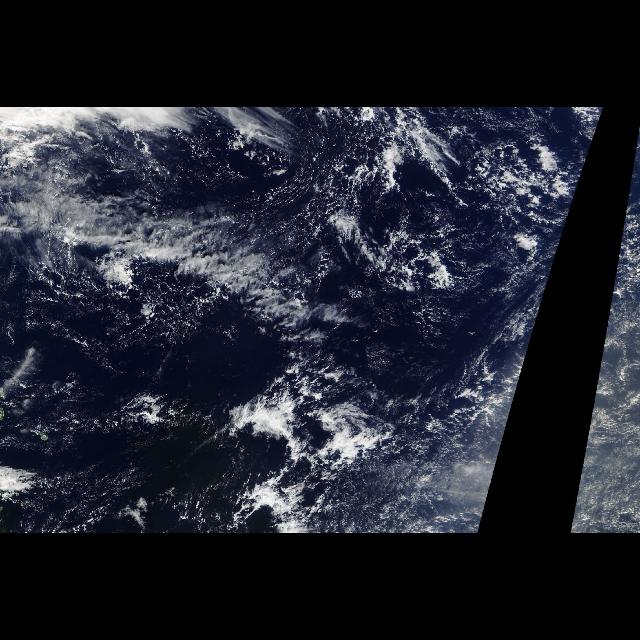Gravel: (13, 258, 213, 368), (264, 108, 392, 245)
Sugar: (370, 416, 510, 532), (568, 416, 640, 532)
